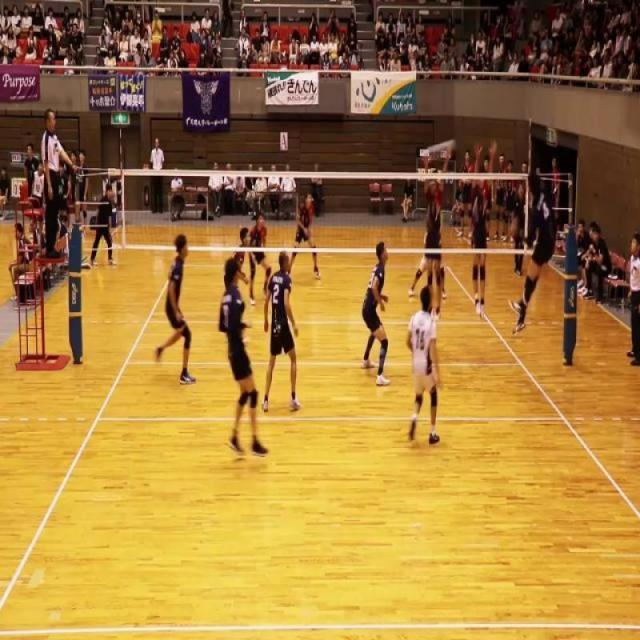volleyball: (427, 138, 458, 157)
